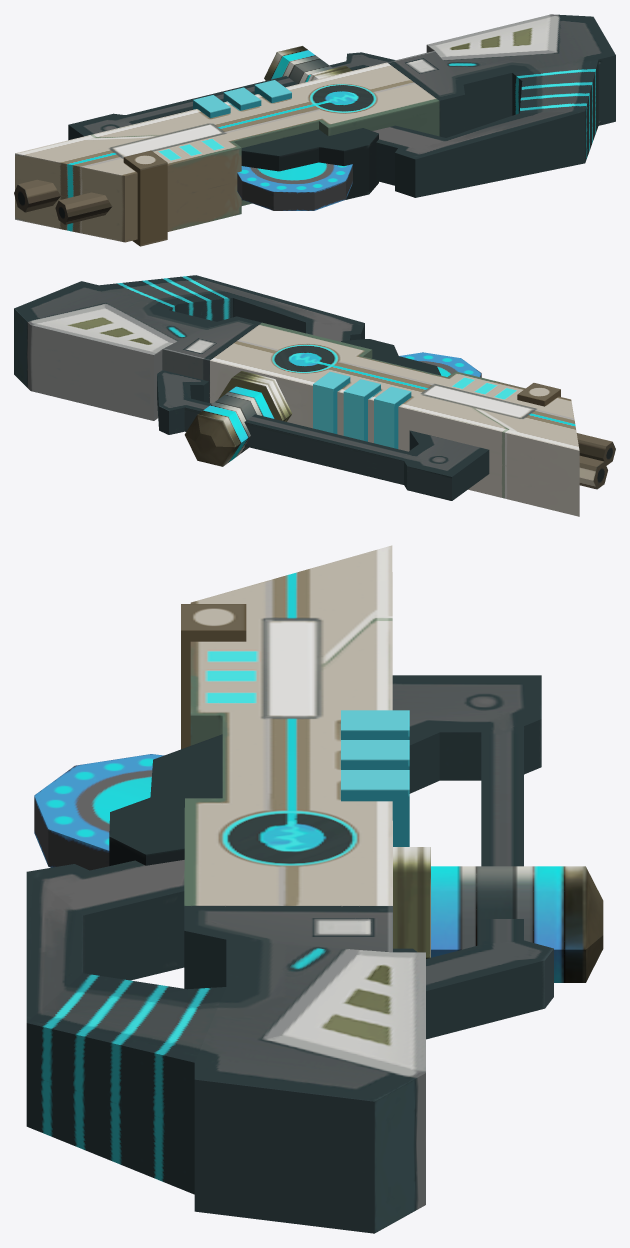
File: weapon_elecgun.FBX
3 renders of one model, top to bottom at view 1: azimuth 30°, elevation 25°; view 2: azimuth 150°, elevation 25°; view 3: azimuth 270°, elevation 25°, orthographic. The views are drawn at different scales.
Parts seen in each view (by area): view 1: weapon_elecgun; view 2: weapon_elecgun; view 3: weapon_elecgun.
Boxes of the visible parts, box(x1,y1,x2,y2) form: weapon_elecgun: box(14, 14, 615, 246); weapon_elecgun: box(14, 275, 615, 516); weapon_elecgun: box(26, 545, 603, 1233).
Bounding box in the file's own units: 143 × 18.31 × 61.67.
